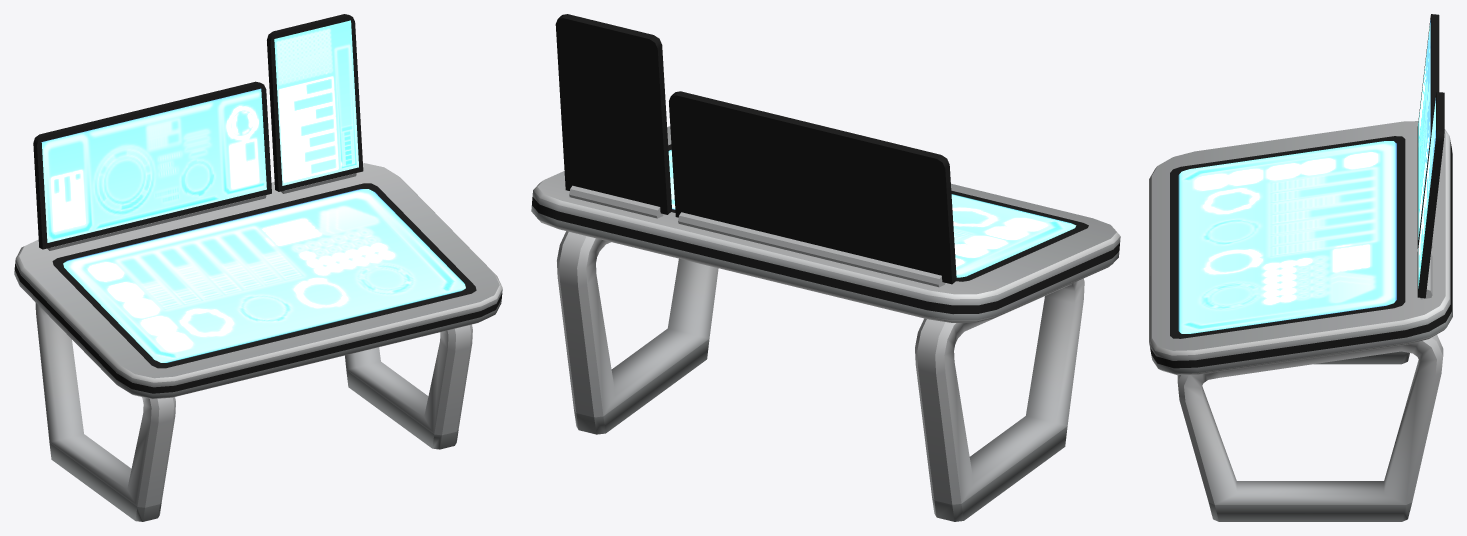
File: Terminal_017.glb
3 renders of one model, left to right at view 1: azimuth 30°, elevation 25°; view 2: azimuth 150°, elevation 25°; view 3: azimuth 270°, elevation 25°, orthographic. The views are drawn at different scales.
Parts seen in each view (by area): view 1: Terminal_017; view 2: Terminal_017; view 3: Terminal_017.
Boxes of the visible parts, x1,y1,x2,y2 form: Terminal_017: (14,14,502,521); Terminal_017: (531,14,1120,521); Terminal_017: (1149,14,1452,521).
Bounding box in the file's own units: 1.61 × 1.44 × 1.02.
3 materials, 2 textured.
